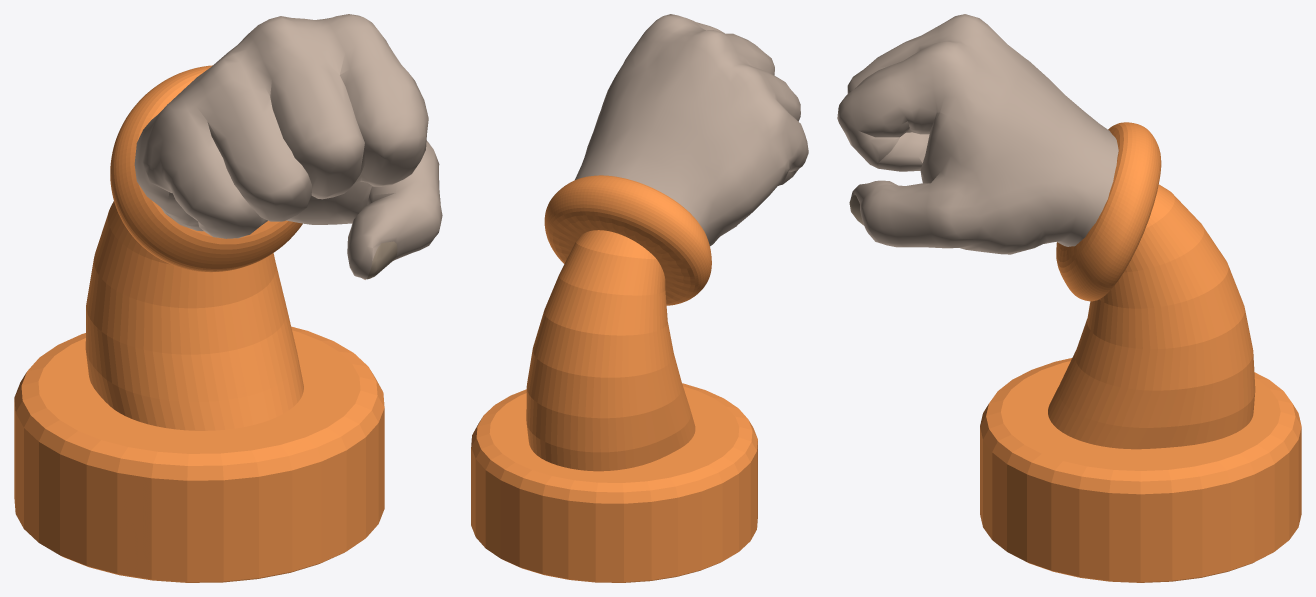
Rendered from 532_punch.fbx.
The picture shows the model from 3 angles, left to right: view 1: azimuth 30°, elevation 25°; view 2: azimuth 150°, elevation 25°; view 3: azimuth 270°, elevation 25°; orthographic projection. The views are drawn at different scales.
Parts seen in each view (by area): view 1: base.011, fist, arm; view 2: arm, base.011, fist; view 3: base.011, fist, arm.
Boxes of the visible parts, x1,y1,x2,y2 form: base.011: (14,326,384,582); fist: (134,14,442,279); arm: (85,65,303,430); arm: (526,175,711,471); base.011: (471,383,757,582); fist: (574,14,808,246); base.011: (980,358,1301,582); fist: (837,14,1118,254); arm: (1048,122,1255,449).
Bounding box in the file's own units: 366 × 617 × 529.
